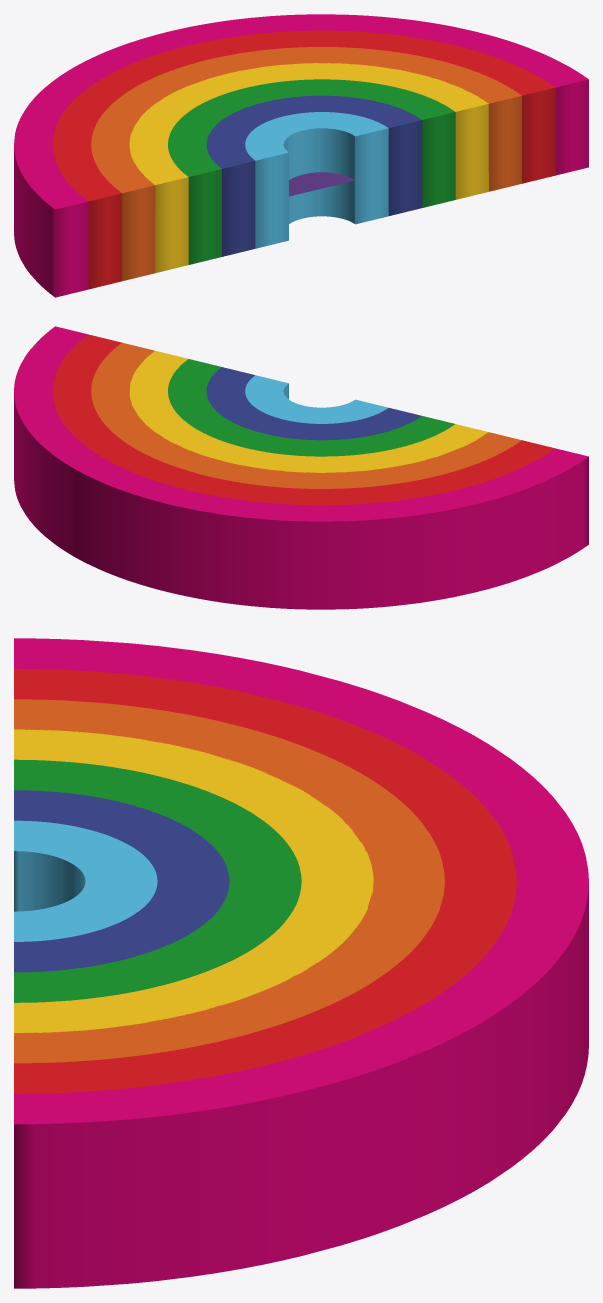
File: rainbow.fbx
3 renders of one model, top to bottom at view 1: azimuth 30°, elevation 25°; view 2: azimuth 150°, elevation 25°; view 3: azimuth 270°, elevation 25°, orthographic. The views are drawn at different scales.
Visible parts, largest first — view 1: Curve.008, Curve.007, Curve.006, Curve.005, Curve.002, Curve.004, Curve.003, Curve.001; view 2: Curve.008, Curve.007, Curve.006, Curve.005, Curve.004, Curve.003, Curve.002; view 3: Curve.008, Curve.007, Curve.006, Curve.005, Curve.004, Curve.003, Curve.002.
Part boxes in pixels (bbox=[...]): Curve.008: bbox=[14, 14, 588, 297]; Curve.007: bbox=[52, 30, 555, 289]; Curve.006: bbox=[91, 47, 521, 281]; Curve.005: bbox=[129, 63, 488, 272]; Curve.002: bbox=[245, 112, 388, 248]; Curve.004: bbox=[168, 79, 455, 264]; Curve.003: bbox=[206, 95, 422, 256]; Curve.001: bbox=[289, 172, 354, 196]; Curve.008: bbox=[14, 326, 588, 609]; Curve.007: bbox=[52, 334, 554, 505]; Curve.006: bbox=[91, 342, 521, 488]; Curve.005: bbox=[129, 350, 488, 472]; Curve.004: bbox=[168, 359, 454, 456]; Curve.003: bbox=[206, 367, 421, 440]; Curve.002: bbox=[245, 375, 388, 423]; Curve.008: bbox=[14, 638, 588, 1288]; Curve.007: bbox=[14, 668, 516, 1093]; Curve.006: bbox=[14, 699, 444, 1063]; Curve.005: bbox=[14, 729, 373, 1033]; Curve.004: bbox=[14, 759, 301, 1002]; Curve.003: bbox=[14, 790, 229, 972]; Curve.002: bbox=[14, 820, 157, 941].
Bounding box in the file's own units: 12.69 × 2 × 6.34.
